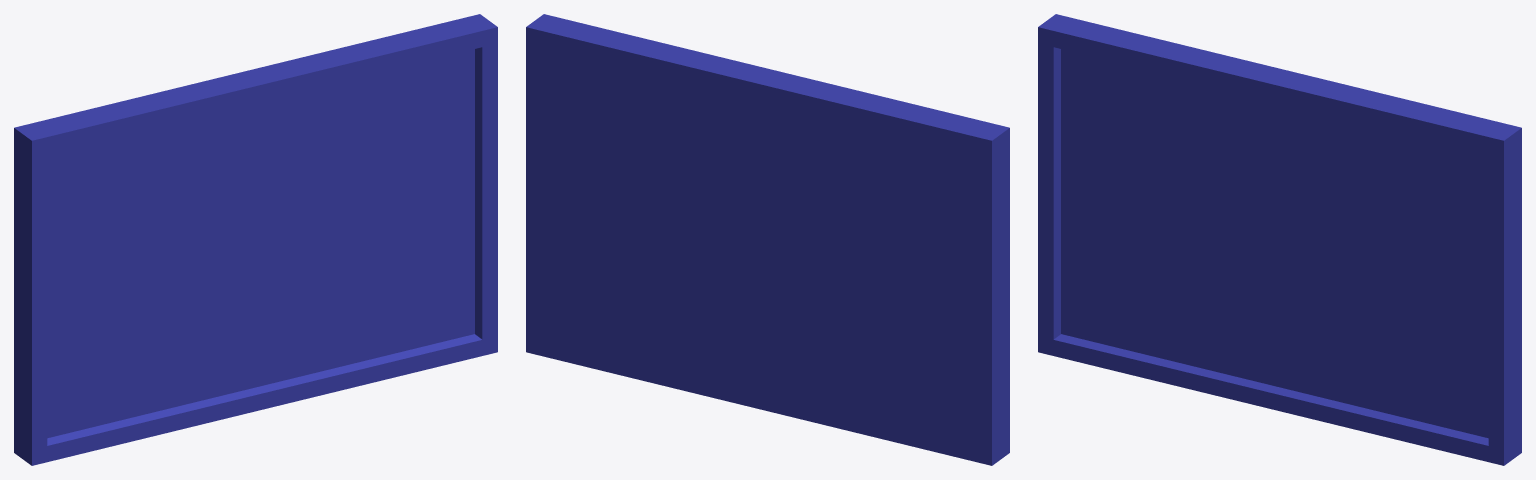
3 renders of one model, left to right at view 1: azimuth 30°, elevation 25°; view 2: azimuth 150°, elevation 25°; view 3: azimuth 330°, elevation 25°, orthographic.
Visible parts, largest first — view 1: TV_02x3x2; view 2: TV_02x3x2; view 3: TV_02x3x2.
Boxes of the visible parts, bbox=[...] form: TV_02x3x2: bbox=[14, 14, 497, 465]; TV_02x3x2: bbox=[526, 14, 1009, 465]; TV_02x3x2: bbox=[1038, 14, 1521, 465].
Bounding box in the file's own units: 3 × 2 × 0.2.
